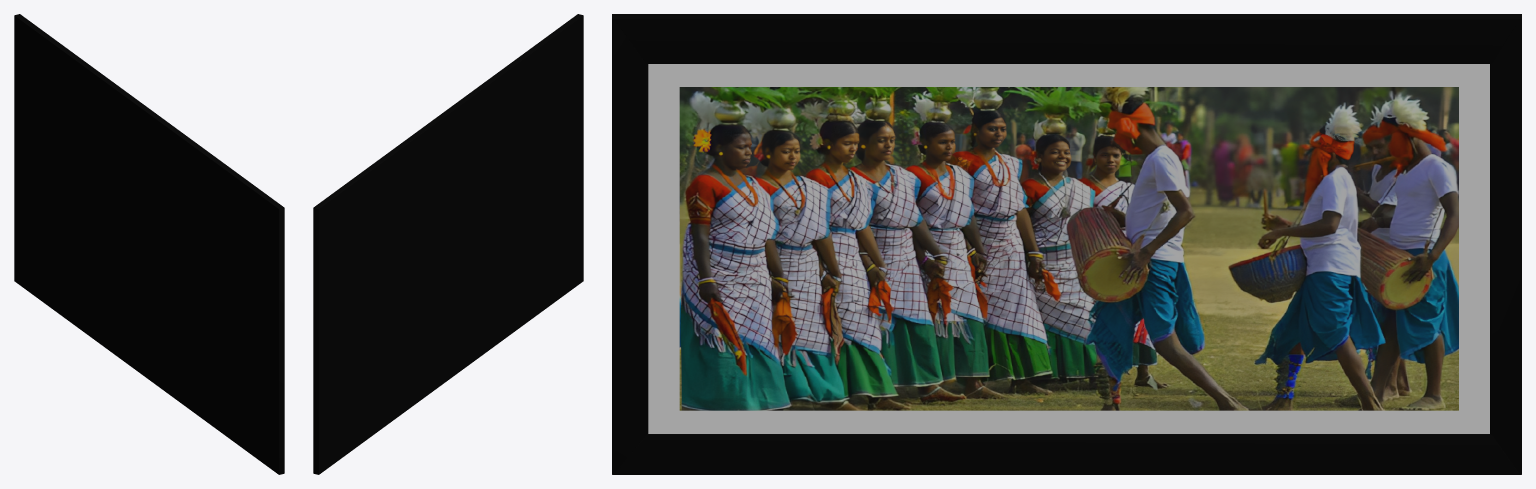
The model's file is Frame4.fbx.
3 renders of one model, left to right at view 1: azimuth 30°, elevation 25°; view 2: azimuth 150°, elevation 25°; view 3: azimuth 270°, elevation 25°, orthographic. The views are drawn at different scales.
Parts seen in each view (by area): view 1: Box046.001; view 2: Box046.001; view 3: Box046.001.
Boxes of the visible parts, x1,y1,x2,y2 form: Box046.001: (14, 14, 284, 474); Box046.001: (313, 14, 583, 474); Box046.001: (612, 14, 1521, 474).
Bounding box in the file's own units: 6.3 × 269 × 486.
Materials: 3 (1 with a texture image).
